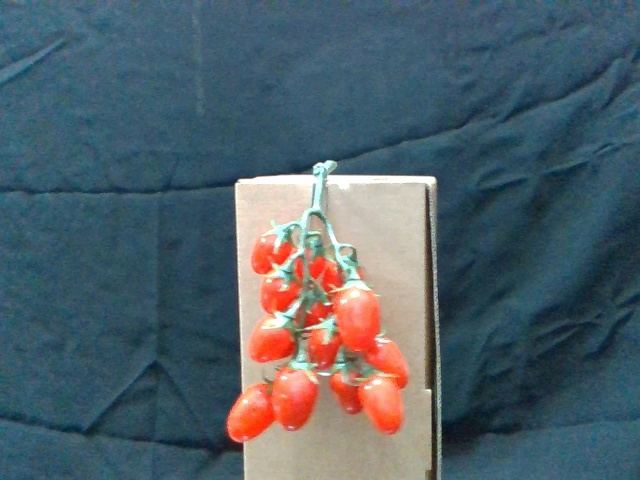tomato: (334, 279, 384, 353), (226, 381, 276, 441), (275, 362, 318, 431), (361, 375, 404, 434), (248, 314, 296, 360), (251, 224, 293, 272), (262, 266, 303, 315), (368, 339, 410, 382), (308, 317, 341, 368), (332, 364, 364, 415)
